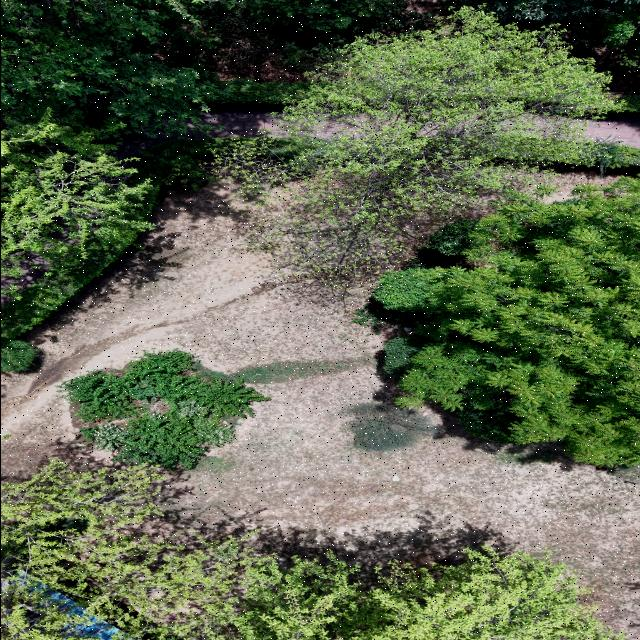DRY_AREA: (1, 183, 639, 639), (4, 185, 293, 472), (113, 107, 285, 165), (115, 107, 289, 164), (116, 107, 289, 157), (116, 107, 288, 157), (117, 107, 286, 157), (119, 107, 288, 156), (120, 107, 287, 156), (209, 16, 318, 82), (141, 107, 288, 142), (529, 114, 639, 147), (172, 107, 280, 138), (572, 114, 639, 147), (1, 251, 49, 294), (584, 114, 639, 147), (407, 0, 442, 13)
PATHWAYS: (118, 107, 287, 157)
VEGETATION_TREE: (1, 0, 639, 464), (1, 0, 636, 369), (1, 0, 623, 338), (1, 0, 406, 339), (236, 9, 638, 286), (1, 462, 620, 639), (1, 0, 300, 338), (375, 178, 639, 465), (1, 0, 420, 135), (1, 0, 408, 137), (1, 134, 209, 340), (1, 0, 300, 138), (253, 127, 508, 286), (1, 462, 216, 639), (1, 119, 152, 370), (295, 7, 617, 123), (331, 547, 621, 639), (60, 350, 269, 468), (1, 120, 152, 280), (205, 0, 424, 80), (469, 0, 639, 66), (226, 0, 404, 41), (345, 402, 439, 451), (196, 358, 362, 383), (457, 399, 517, 442), (428, 218, 476, 255), (383, 335, 424, 374), (1, 340, 38, 371)
